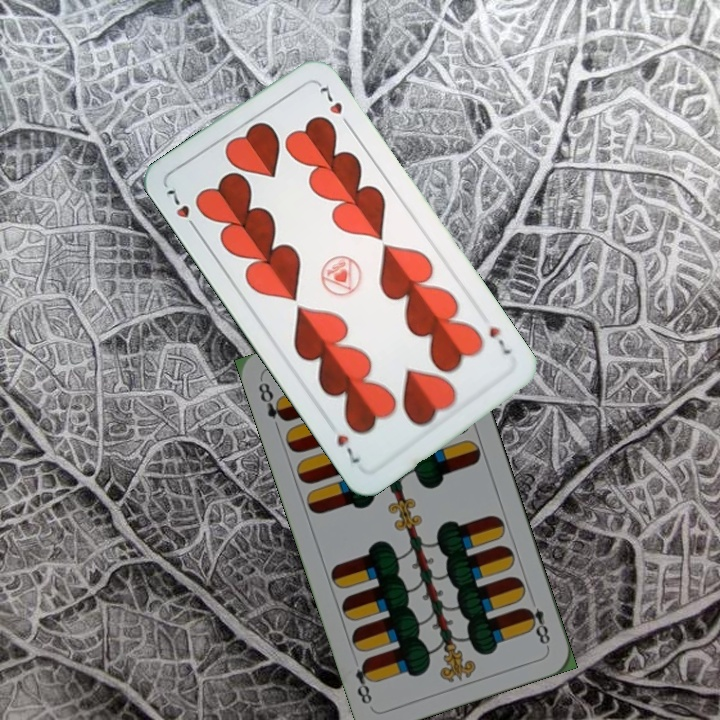E8: (254, 378, 290, 424), (520, 603, 553, 650)
H7: (162, 183, 201, 235), (485, 322, 514, 357)
